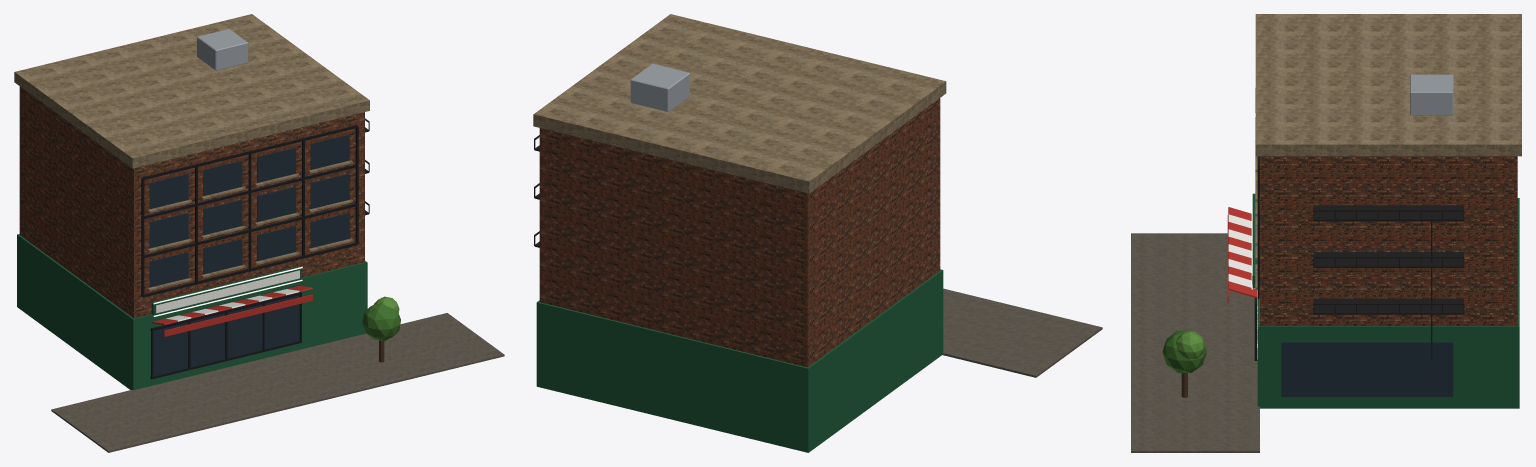
The model's file is OT_CornerShop_A.glb.
The picture shows the model from 3 angles, left to right: view 1: azimuth 30°, elevation 25°; view 2: azimuth 150°, elevation 25°; view 3: azimuth 270°, elevation 25°; orthographic projection. The views are drawn at different scales.
Visible parts, largest first — view 1: OT_CornerShop_A_Brick, OT_CornerShop_A_Stone, OT_CornerShop_A_Pavement, OT_CornerShop_A_Glass__22303a, OT_CornerShop_A_ShopGreen__1f5a3a, OT_CornerShop_A_Frame__18191c, OT_CornerShop_A_AwnRed__b8322a, OT_CornerShop_A_SteelGrey__9aa0a6, OT_CornerShop_A_SignFace__f2efe6, OT_CornerShop_A_Leaf__3f6e2c, OT_CornerShop_A_NeonW__fff4e0, OT_CornerShop_A_AwnW__f0efe9; view 2: OT_CornerShop_A_Brick, OT_CornerShop_A_Stone, OT_CornerShop_A_ShopGreen__1f5a3a, OT_CornerShop_A_Pavement, OT_CornerShop_A_SteelGrey__9aa0a6; view 3: OT_CornerShop_A_Stone, OT_CornerShop_A_Brick, OT_CornerShop_A_Pavement, OT_CornerShop_A_ShopGreen__1f5a3a, OT_CornerShop_A_Glass__22303a, OT_CornerShop_A_Iron__1c1c1c, OT_CornerShop_A_SteelGrey__9aa0a6, OT_CornerShop_A_AwnRed__b8322a, OT_CornerShop_A_AwnW__f0efe9, OT_CornerShop_A_Leaf__3f6e2c, OT_CornerShop_A_Leaf2__58893a, OT_CornerShop_A_Frame__18191c.
Boxes of the visible parts, bbox=[...] form: OT_CornerShop_A_Brick: bbox=[19, 86, 364, 318]; OT_CornerShop_A_Stone: bbox=[14, 14, 369, 291]; OT_CornerShop_A_Pavement: bbox=[51, 313, 504, 452]; OT_CornerShop_A_Glass__22303a: bbox=[149, 134, 349, 376]; OT_CornerShop_A_ShopGreen__1f5a3a: bbox=[17, 234, 367, 390]; OT_CornerShop_A_Frame__18191c: bbox=[141, 125, 358, 379]; OT_CornerShop_A_AwnRed__b8322a: bbox=[151, 285, 313, 336]; OT_CornerShop_A_SteelGrey__9aa0a6: bbox=[197, 29, 248, 70]; OT_CornerShop_A_SignFace__f2efe6: bbox=[156, 270, 299, 313]; OT_CornerShop_A_Leaf__3f6e2c: bbox=[362, 303, 400, 341]; OT_CornerShop_A_NeonW__fff4e0: bbox=[153, 267, 302, 316]; OT_CornerShop_A_AwnW__f0efe9: bbox=[166, 289, 299, 321]; OT_CornerShop_A_Brick: bbox=[539, 98, 940, 367]; OT_CornerShop_A_Stone: bbox=[533, 14, 946, 193]; OT_CornerShop_A_ShopGreen__1f5a3a: bbox=[536, 269, 943, 452]; OT_CornerShop_A_Pavement: bbox=[942, 288, 1102, 377]; OT_CornerShop_A_SteelGrey__9aa0a6: bbox=[630, 63, 689, 111]; OT_CornerShop_A_Stone: bbox=[1255, 14, 1521, 289]; OT_CornerShop_A_Brick: bbox=[1260, 156, 1517, 325]; OT_CornerShop_A_Pavement: bbox=[1131, 233, 1259, 452]; OT_CornerShop_A_ShopGreen__1f5a3a: bbox=[1252, 193, 1519, 408]; OT_CornerShop_A_Glass__22303a: bbox=[1257, 156, 1453, 396]; OT_CornerShop_A_Iron__1c1c1c: bbox=[1313, 205, 1464, 358]; OT_CornerShop_A_SteelGrey__9aa0a6: bbox=[1410, 74, 1453, 115]; OT_CornerShop_A_AwnRed__b8322a: bbox=[1227, 207, 1257, 302]; OT_CornerShop_A_AwnW__f0efe9: bbox=[1228, 214, 1255, 288]; OT_CornerShop_A_Leaf__3f6e2c: bbox=[1162, 330, 1206, 372]; OT_CornerShop_A_Leaf2__58893a: bbox=[1176, 331, 1205, 359]; OT_CornerShop_A_Frame__18191c: bbox=[1254, 156, 1259, 360].
Bounding box in the file's own units: 24 × 14.8 × 18.2.
Materials: 16 (3 with a texture image).
